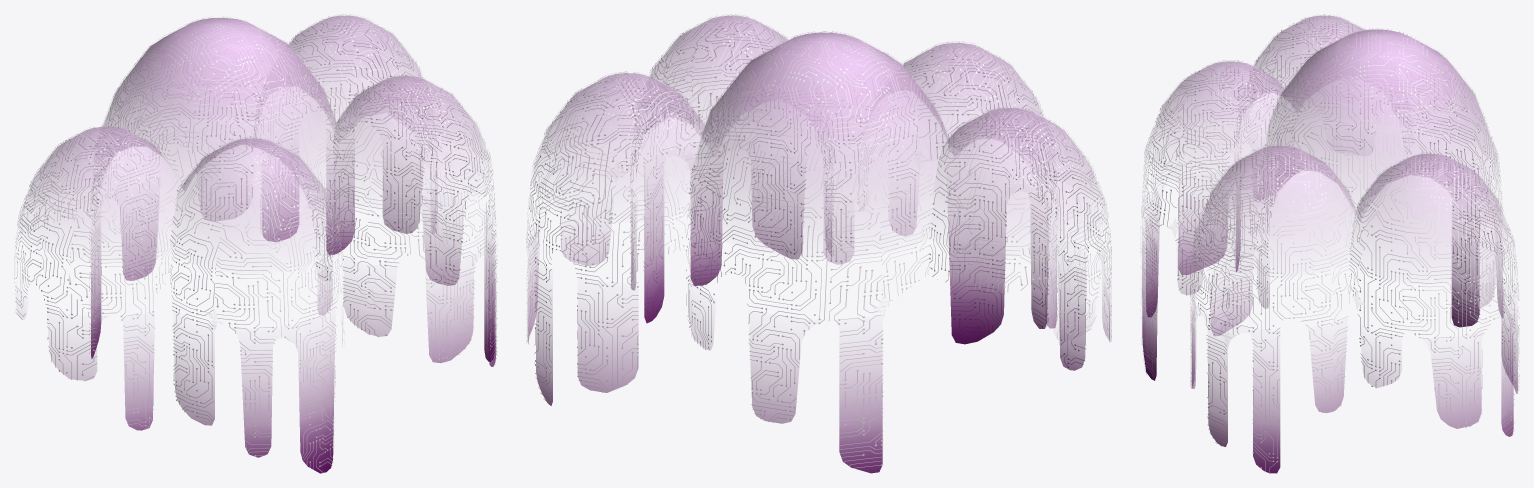
The model's file is pm-dome-extra-01.glb.
3 renders of one model, left to right at view 1: azimuth 30°, elevation 25°; view 2: azimuth 150°, elevation 25°; view 3: azimuth 270°, elevation 25°, orthographic. The views are drawn at different scales.
Parts seen in each view (by area): view 1: DomeExtra01_Art; view 2: DomeExtra01_Art; view 3: DomeExtra01_Art.
Boxes of the visible parts, box(x1,y1,x2,y2) form: DomeExtra01_Art: box(14, 14, 497, 473); DomeExtra01_Art: box(526, 14, 1111, 473); DomeExtra01_Art: box(1140, 14, 1519, 473).
Size of the model in its own units: 37.76 by 28.6 by 28.26.
2 materials, 2 textured.
